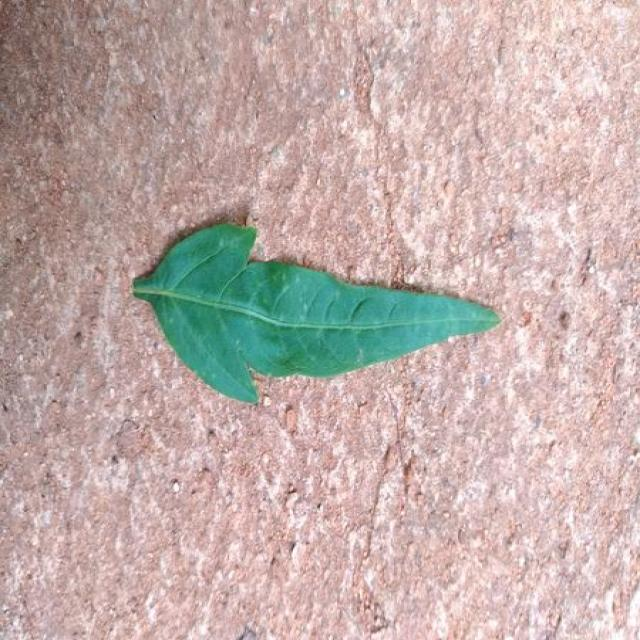defectedballoon_Vine: (133, 224, 500, 402)
